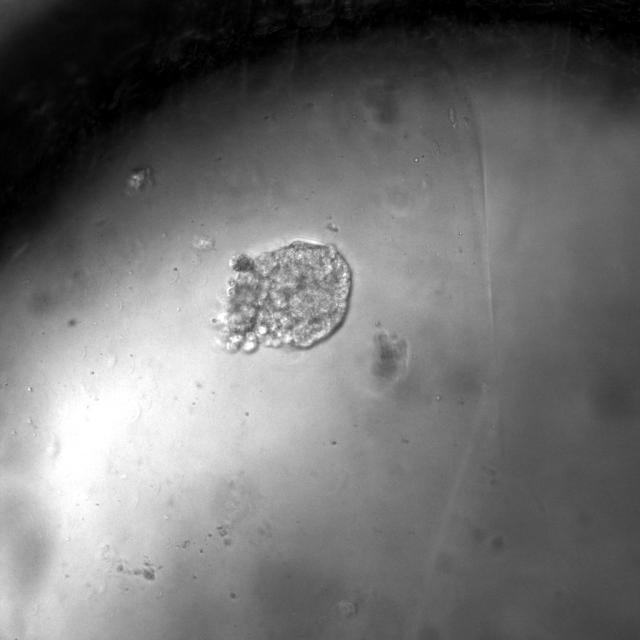organoid: (216, 241, 351, 353), (372, 331, 408, 382), (126, 166, 153, 194)
